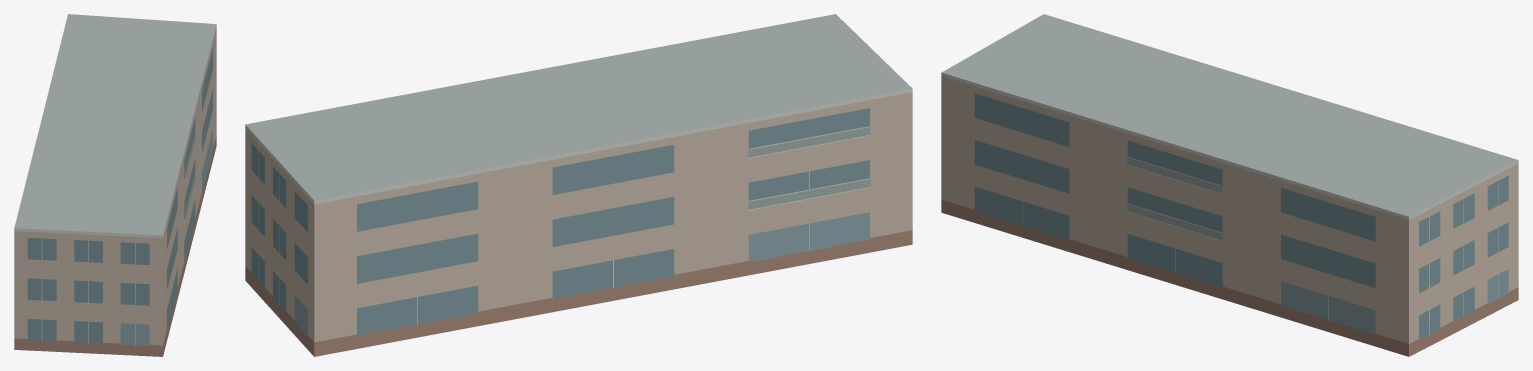
File: residential-9cc1a177-9a08-4dce-93a6-bccdf1adb2f0.glb
3 renders of one model, left to right at view 1: azimuth 30°, elevation 25°; view 2: azimuth 150°, elevation 25°; view 3: azimuth 270°, elevation 25°, orthographic. The views are drawn at different scales.
Parts seen in each view (by area): view 1: residential-9cc1a177-9a08-4dce-93a6-bccdf1adb2f0.tmp; view 2: residential-9cc1a177-9a08-4dce-93a6-bccdf1adb2f0.tmp; view 3: residential-9cc1a177-9a08-4dce-93a6-bccdf1adb2f0.tmp.
Boxes of the visible parts, box(x1,y1,x2,y2) form: residential-9cc1a177-9a08-4dce-93a6-bccdf1adb2f0.tmp: box(14, 14, 216, 356); residential-9cc1a177-9a08-4dce-93a6-bccdf1adb2f0.tmp: box(245, 14, 912, 356); residential-9cc1a177-9a08-4dce-93a6-bccdf1adb2f0.tmp: box(941, 14, 1518, 356).
Bounding box in the file's own units: 32.24 × 10.38 × 38.76.
